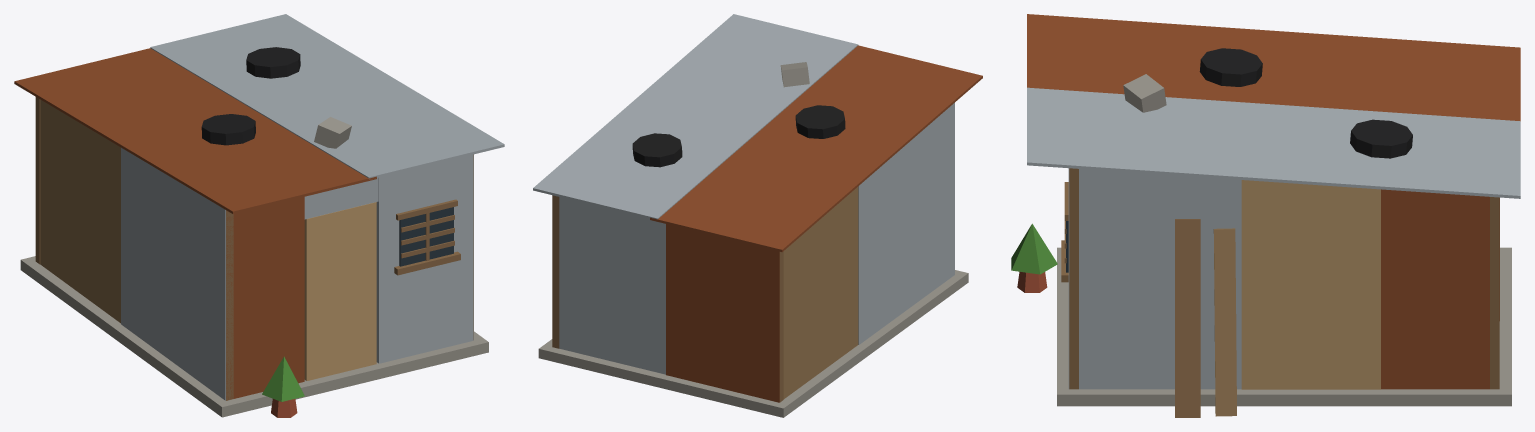
File: BAY_I_TinShack_A.glb
The picture shows the model from 3 angles, left to right: view 1: azimuth 30°, elevation 25°; view 2: azimuth 150°, elevation 25°; view 3: azimuth 270°, elevation 25°; orthographic projection. The views are drawn at different scales.
Parts seen in each view (by area): view 1: BAY_I_TinShack_A; view 2: BAY_I_TinShack_A; view 3: BAY_I_TinShack_A.
Boxes of the visible parts, x1,y1,x2,y2 form: BAY_I_TinShack_A: (14,14,504,417); BAY_I_TinShack_A: (533,14,982,417); BAY_I_TinShack_A: (1011,14,1520,417).
Size of the model in its own units: 3.57 by 2.68 by 4.74.
1 material, 1 textured.
